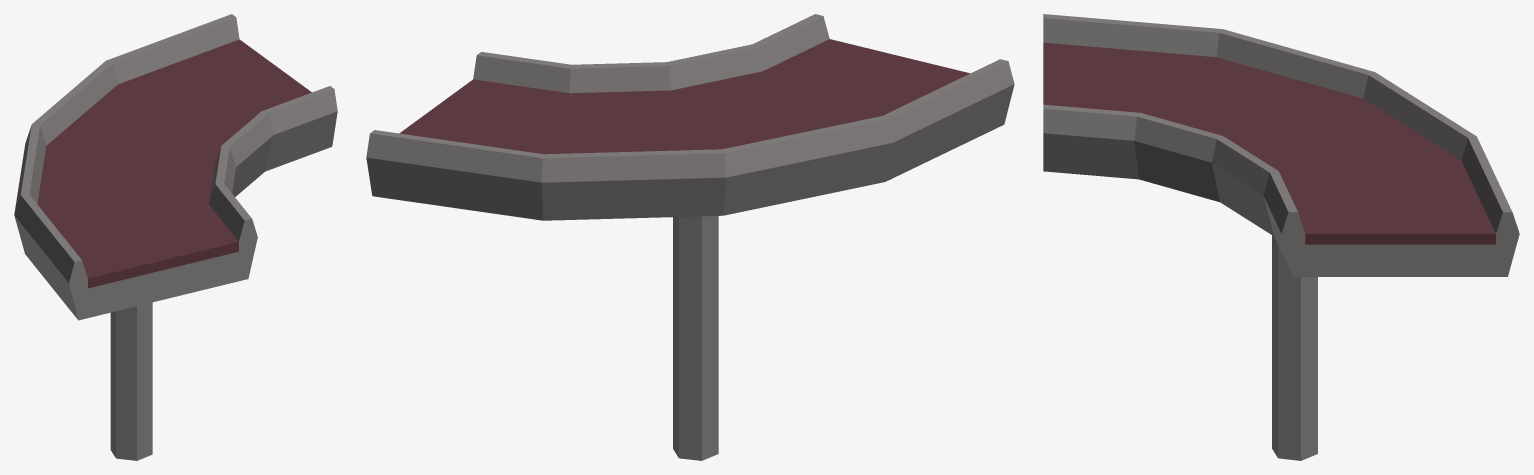
File: scifi-belt-moving-curve.glb
3 renders of one model, left to right at view 1: azimuth 30°, elevation 25°; view 2: azimuth 150°, elevation 25°; view 3: azimuth 270°, elevation 25°, orthographic. The views are drawn at different scales.
Visible parts, largest first — view 1: belt-moving-curve; view 2: belt-moving-curve; view 3: belt-moving-curve.
Part boxes in pixels (left/top/right/bottom): belt-moving-curve: left=14, top=14, right=337, bottom=460; belt-moving-curve: left=366, top=14, right=1014, bottom=460; belt-moving-curve: left=1043, top=14, right=1519, bottom=460.
Bounding box in the file's own units: 2 × 1.6 × 2.
